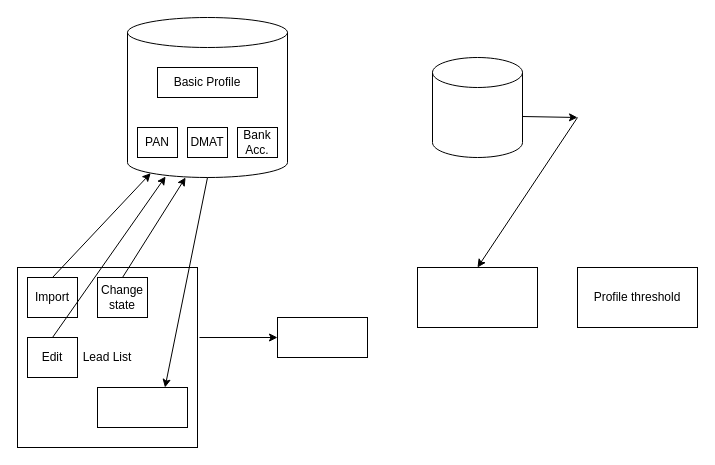
Some shapes in this 715 by 465 pixel diagram are drawn without their labels. Here are the shapes that lost their labels. From the top down, the box of each, then its label:
(126, 16, 288, 178): Retailer
(432, 56, 522, 158): Onboarding Sections
(416, 266, 538, 328): Onboarding Home
(276, 316, 368, 358): send invite
(96, 386, 188, 428): List Leads
